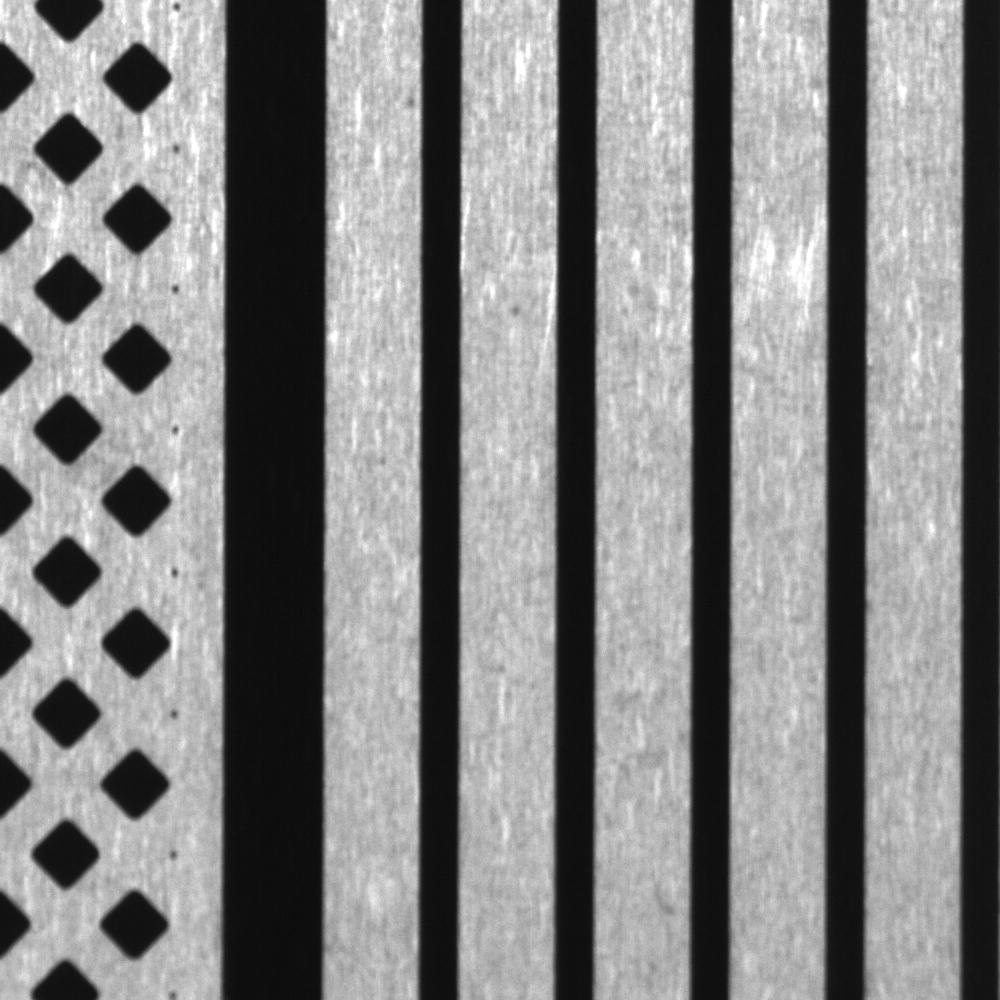Pinhole: (498, 292, 536, 331), (366, 437, 402, 476), (394, 82, 423, 114)
